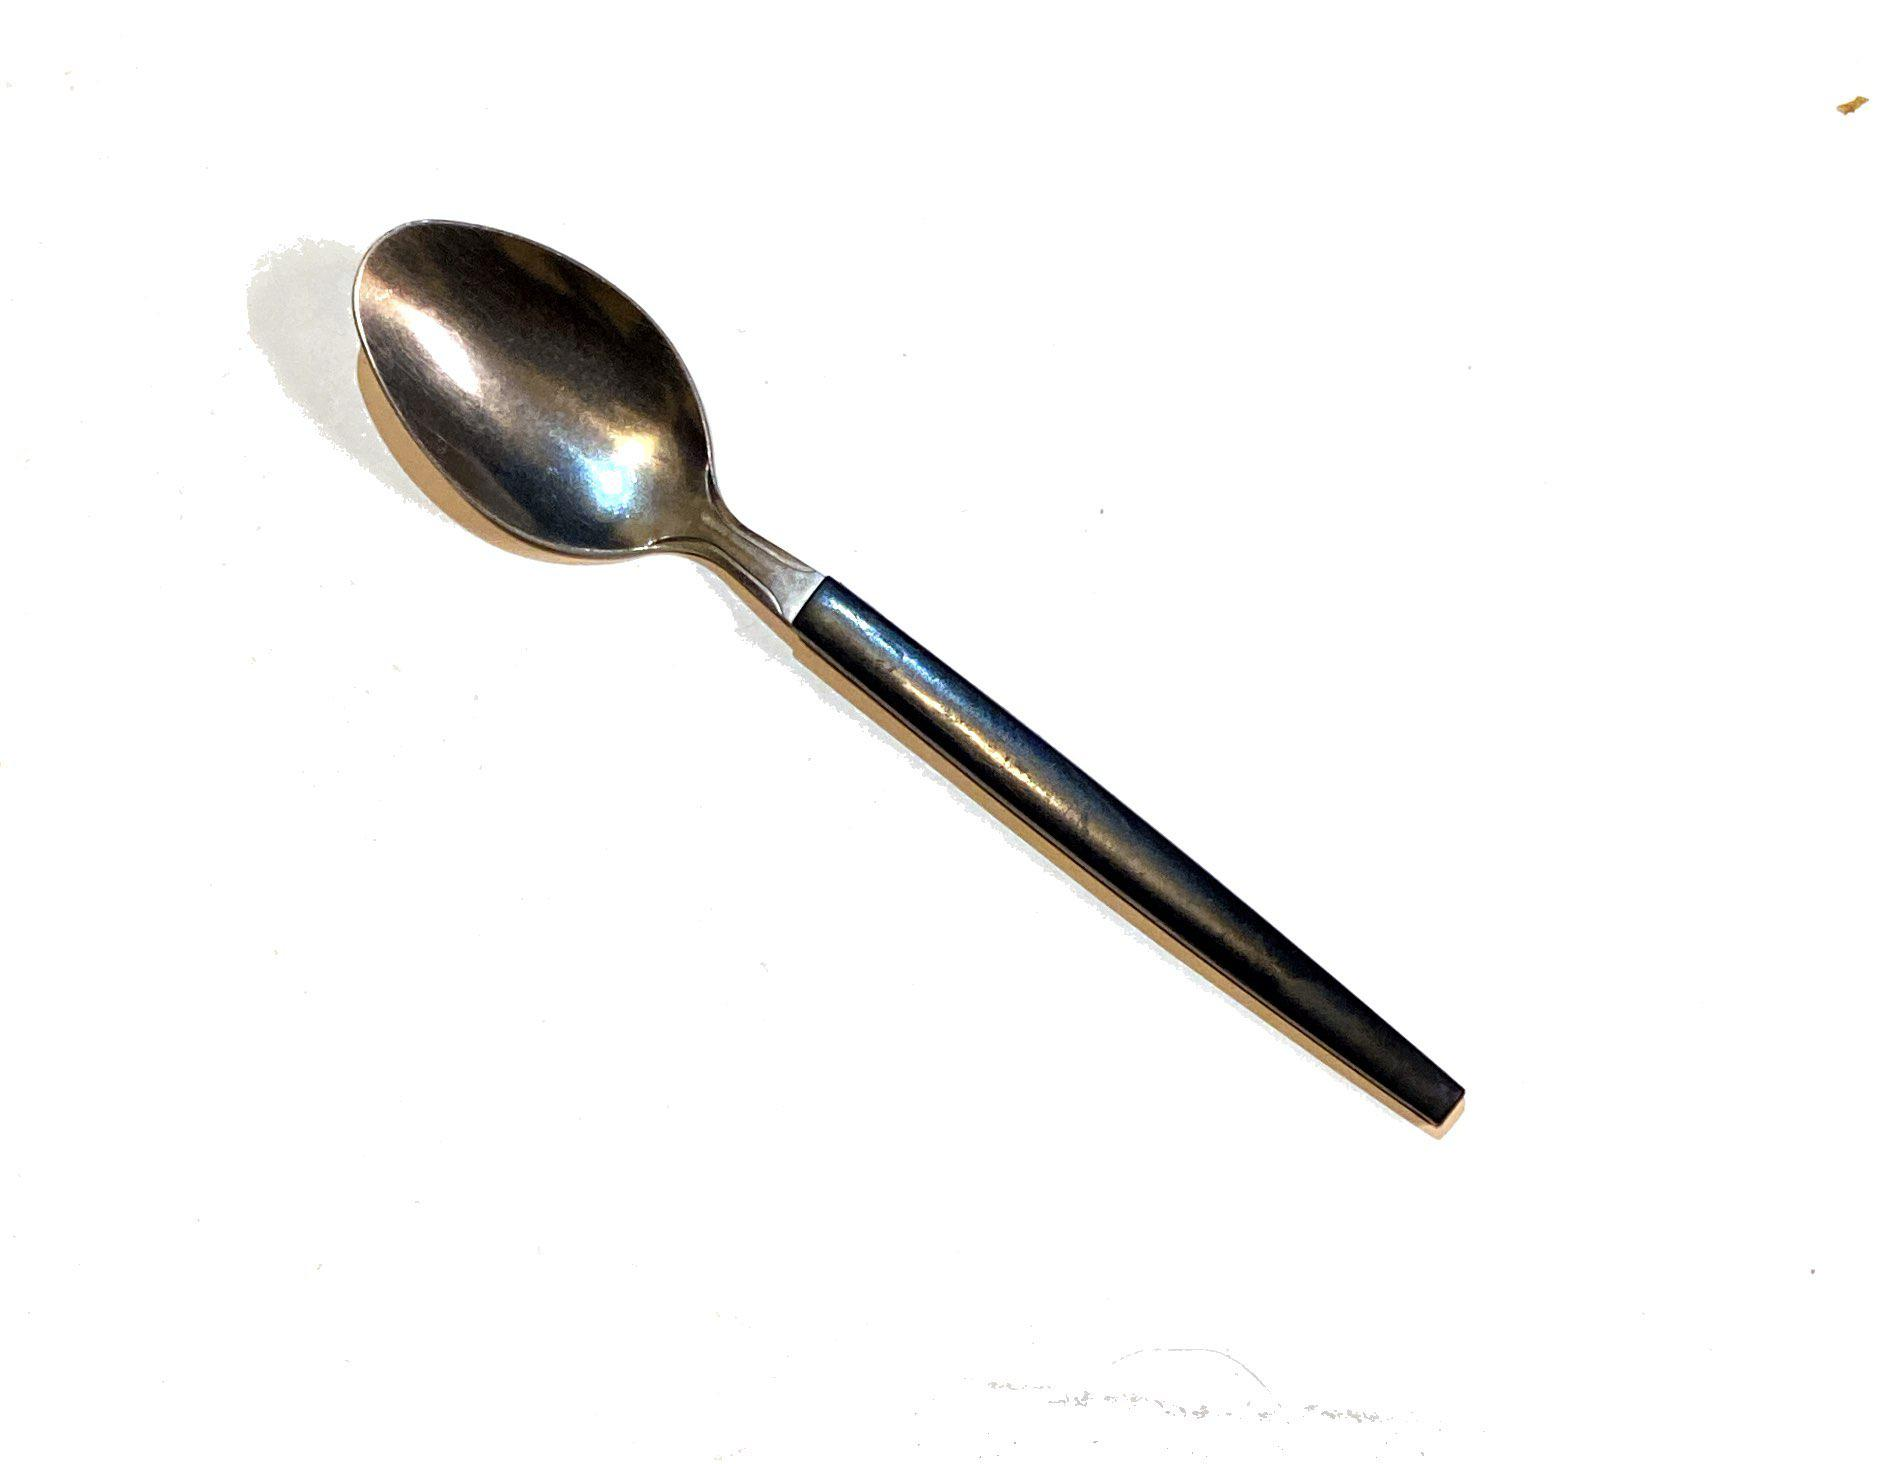Spoon: (258, 174, 1526, 1190)
